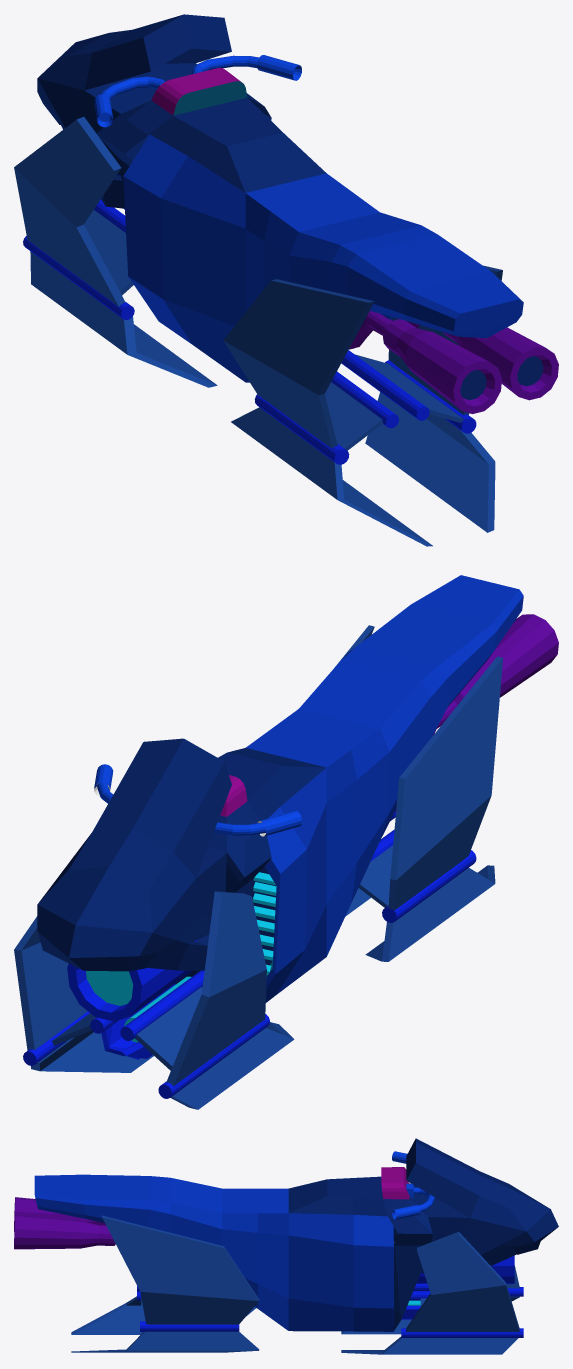
File: hower_skin_1_colored.fbx
The picture shows the model from 3 angles, top to bottom: view 1: azimuth 30°, elevation 25°; view 2: azimuth 150°, elevation 25°; view 3: azimuth 270°, elevation 25°; orthographic projection. The views are drawn at different scales.
Parts seen in each view (by area): view 1: Cube; view 2: Cube; view 3: Cube.
Boxes of the visible parts, left/top/right/bottom form: Cube: left=14, top=14, right=558, bottom=546; Cube: left=14, top=575, right=558, bottom=1109; Cube: left=14, top=1138, right=558, bottom=1354.
Size of the model in its own units: 116 by 174 by 428.
